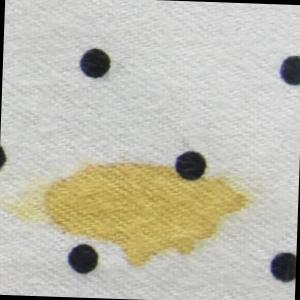Oil Stain: (18, 160, 258, 274)
